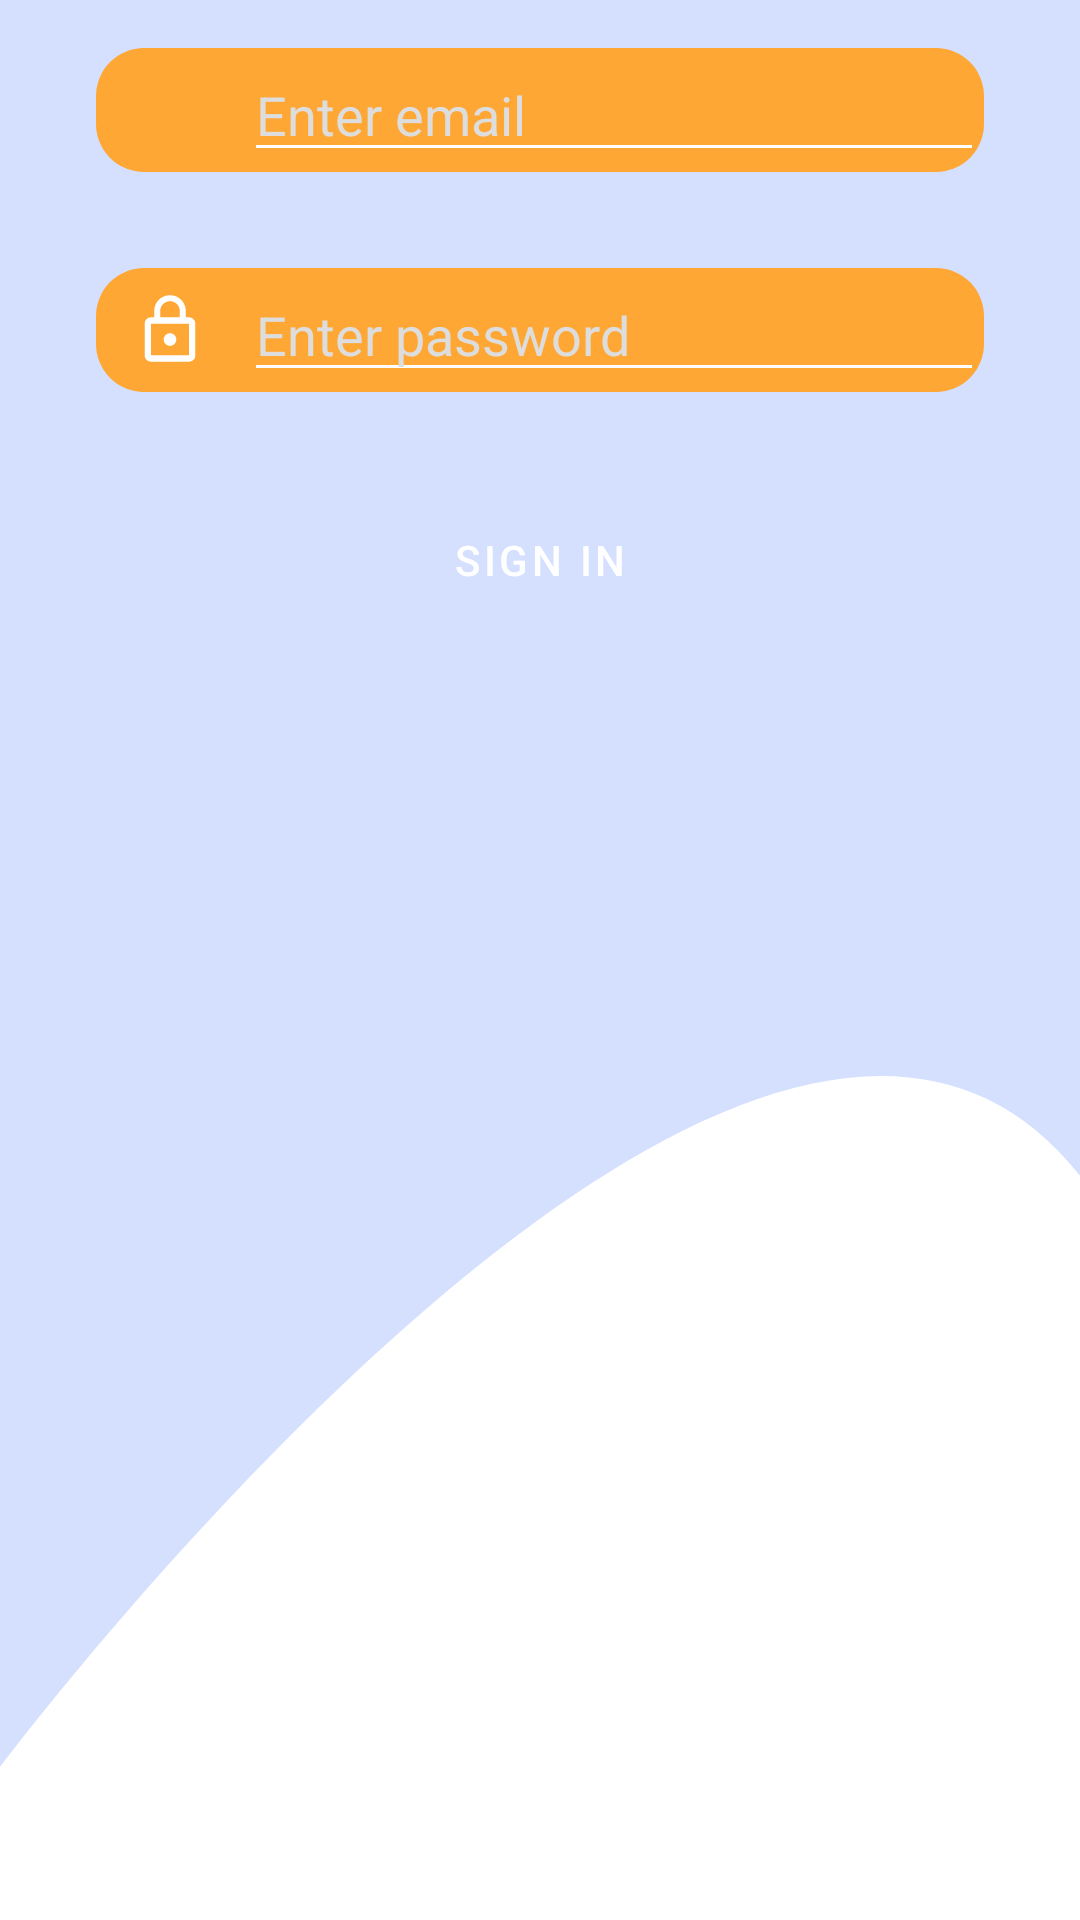

Named icons in this screenshot (1080 × 1920) and their centers, point (x, y):
lock: point (170, 330)
